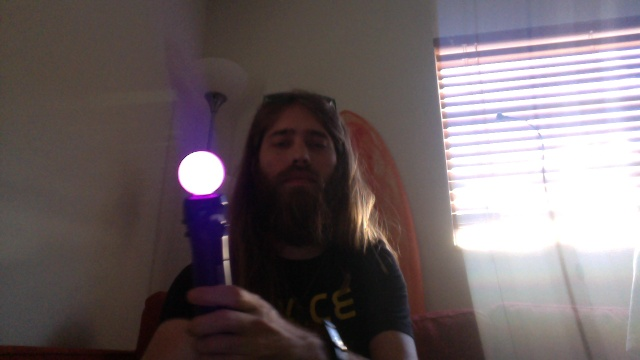wand: (179, 152, 225, 195)
